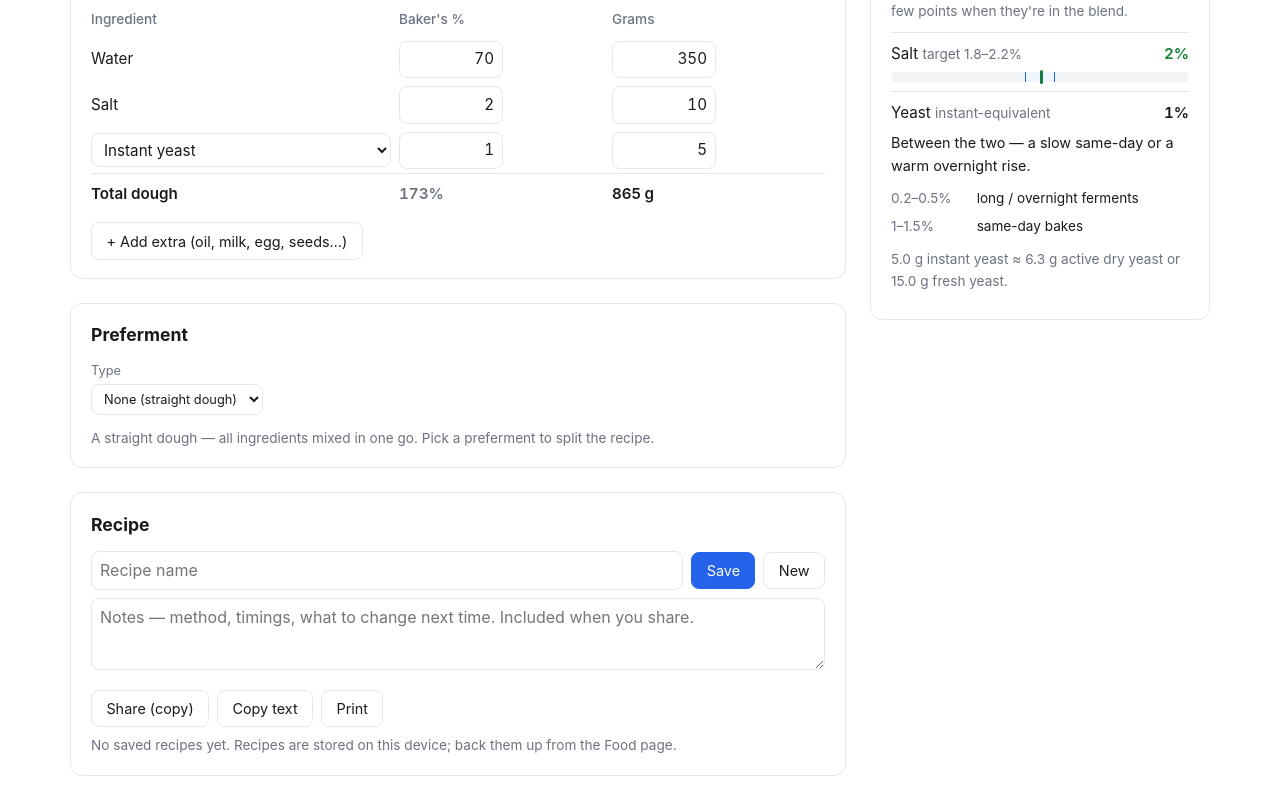
pages render › bread shows the split tables when a preferment is chosen
(page scrolled)
Expected: the text "865 g" is shown, top-left (612, 174), bottom-right (825, 210)
Select "Poolish" in the dropdown labelled "Type": x=177, y=399 top-left (91, 384), bottom-right (263, 414)
(page scrolled)
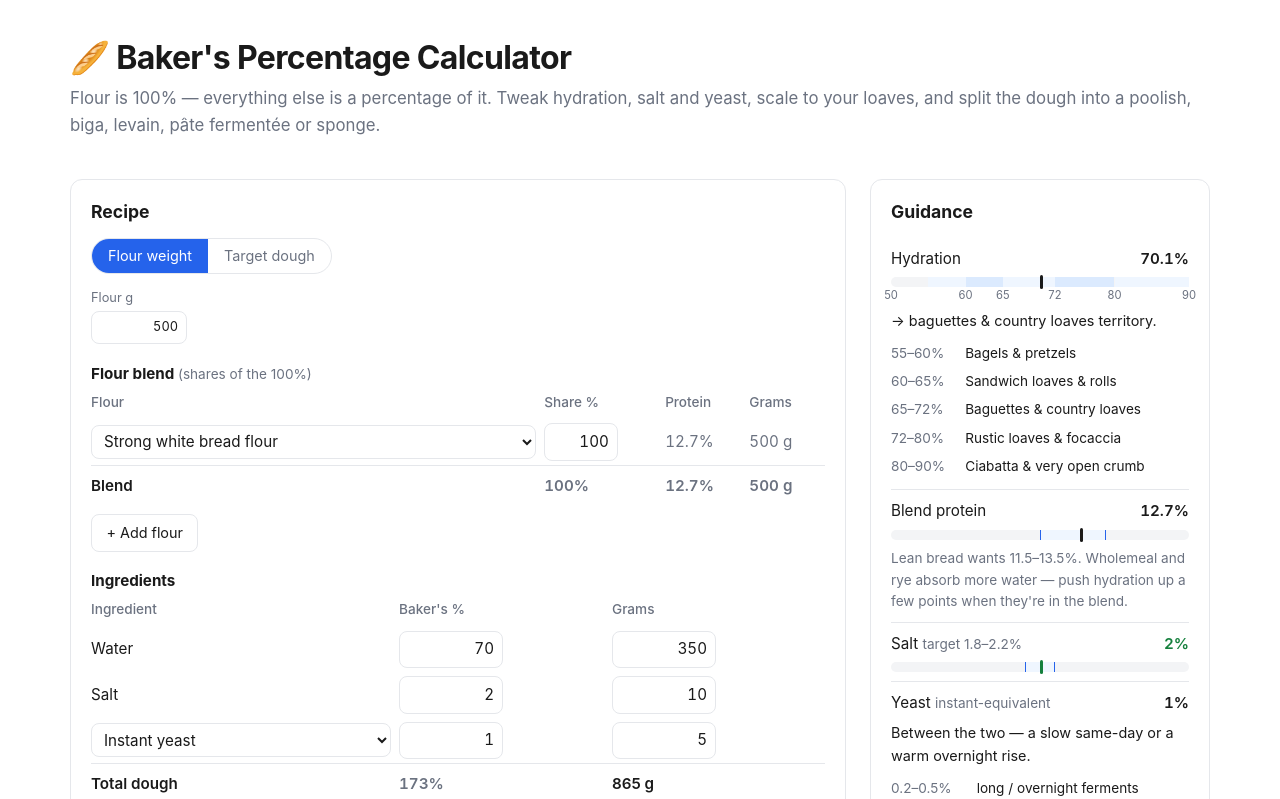
Click the button "Target dough": x=269, y=256 top-left (208, 239), bottom-right (331, 273)
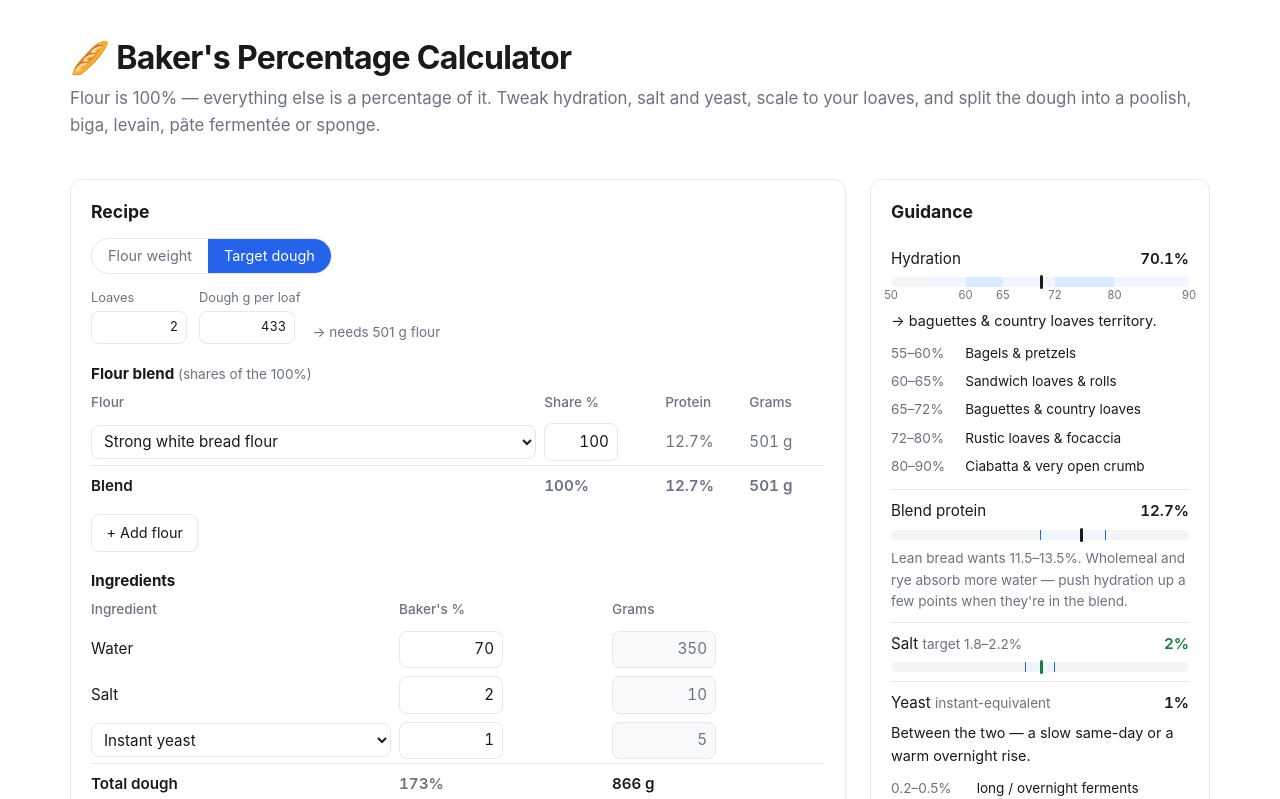
Now the number field labelled "Loaves" is shown, box top-left (91, 311), bottom-right (187, 344)
Now the text "→ needs 501 g flour" is shown, box top-left (312, 322), bottom-right (440, 344)
